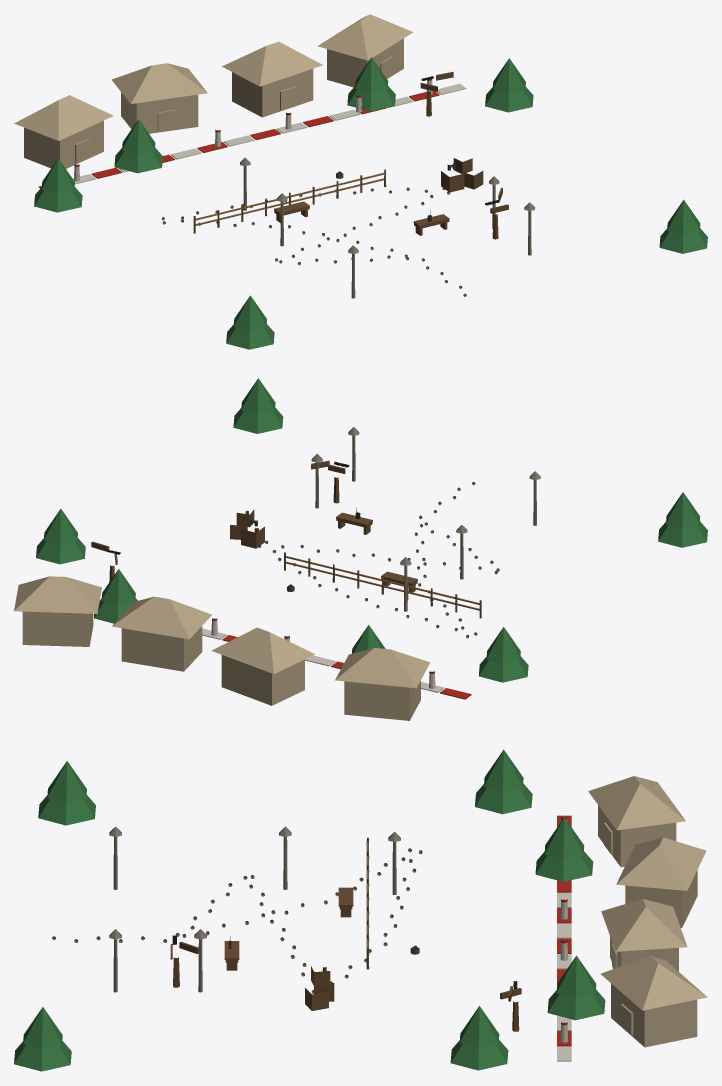
File: post-props.glb
The picture shows the model from 3 angles, top to bottom: view 1: azimuth 30°, elevation 25°; view 2: azimuth 150°, elevation 25°; view 3: azimuth 270°, elevation 25°; orthographic projection. The views are drawn at different scales.
Visible parts, largest first — view 1: PostProps; view 2: PostProps; view 3: PostProps.
Boxes of the visible parts, bbox=[...] form: PostProps: bbox=[14, 14, 707, 349]; PostProps: bbox=[14, 378, 707, 720]; PostProps: bbox=[14, 749, 707, 1071].
Size of the model in its own units: 27.7 by 3.3 by 28.61.
